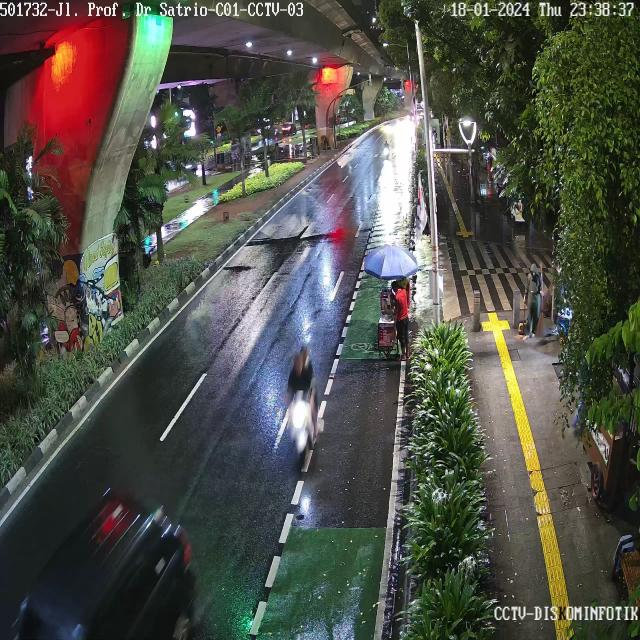Gerobak: (374, 285, 401, 356)
Payung: (363, 241, 422, 281)
